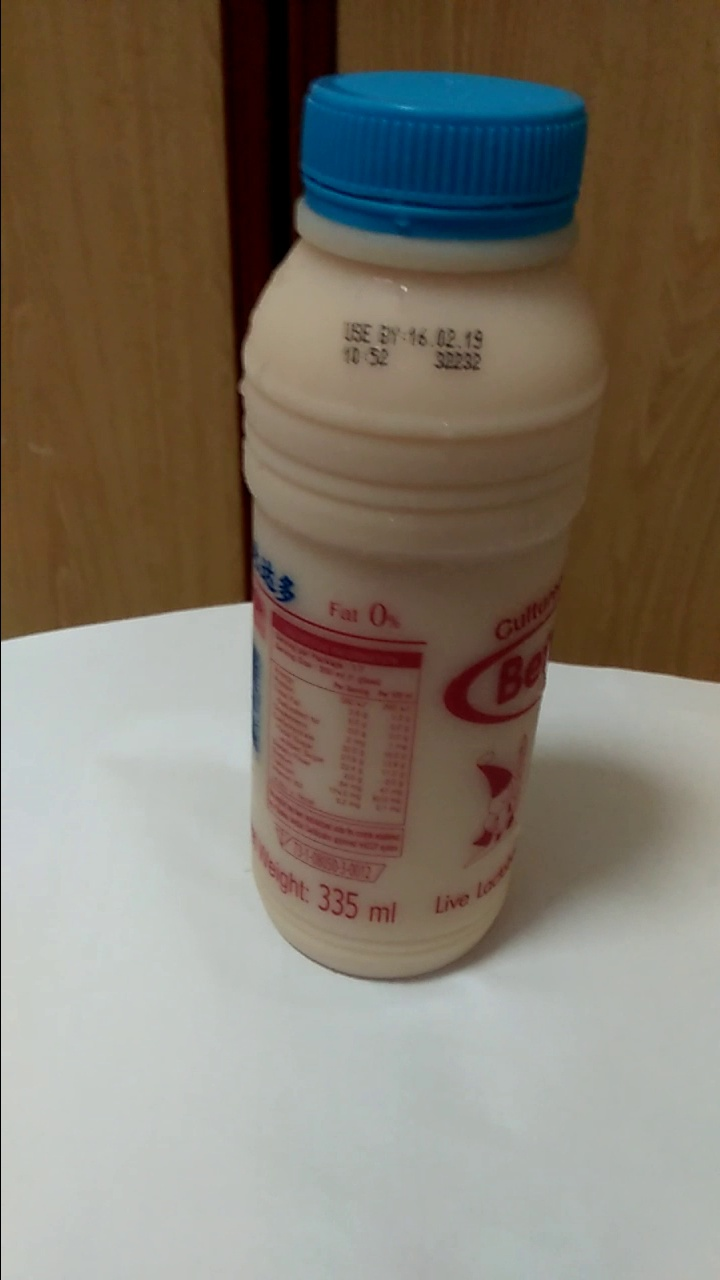mlik2: (229, 72, 564, 980)
